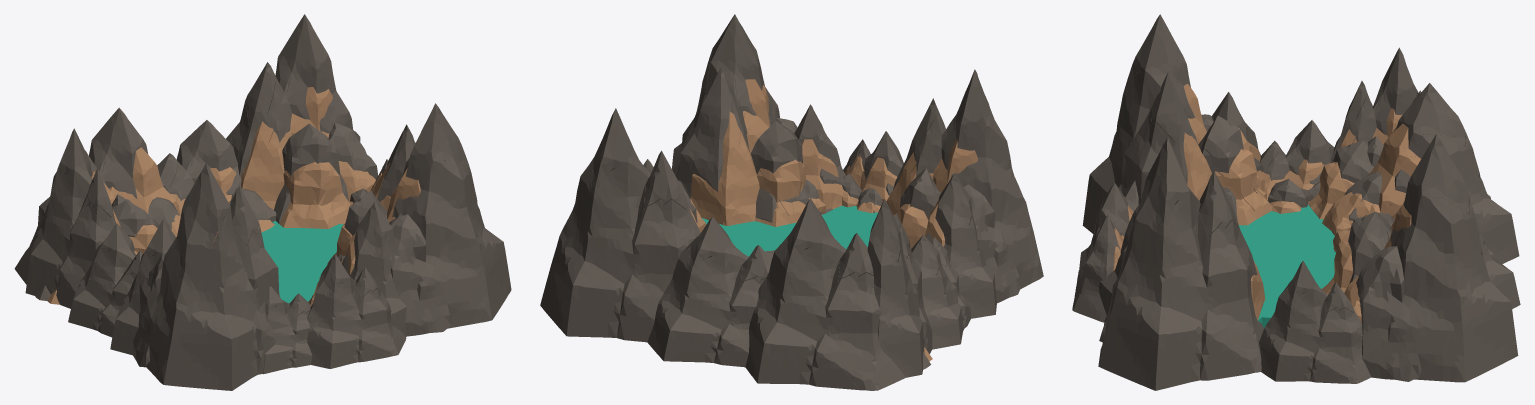
File: asset.glb
3 views of the same model, side by side, from view 1: azimuth 30°, elevation 25°; view 2: azimuth 150°, elevation 25°; view 3: azimuth 270°, elevation 25° (orthographic). The views are drawn at different scales.
Visible parts, largest first — view 1: obj_19, obj_35, obj_2, obj_9, obj_4, obj_14, obj_1, obj_7, obj_5, obj_0, obj_29, obj_13 (+4 smaller); view 2: obj_2, obj_1, obj_19, obj_0, obj_35, obj_36, obj_9, obj_21, obj_7, obj_5, obj_20, obj_14 (+3 smaller); view 3: obj_35, obj_2, obj_19, obj_31, obj_1, obj_5, obj_6, obj_20, obj_14, obj_9, obj_7, obj_4 (+7 smaller).
Part boxes in pixels (x1,y1,x2,y2): obj_19: (133,162,280,390); obj_35: (337,103,511,336); obj_2: (226,14,378,223); obj_9: (25,128,131,308); obj_4: (241,87,375,228); obj_14: (307,254,406,368); obj_1: (14,107,180,300); obj_7: (68,223,142,337); obj_5: (261,220,343,303); obj_0: (157,120,276,221); obj_29: (340,202,406,336); obj_13: (263,286,312,374); obj_2: (540,108,700,342); obj_1: (745,198,930,390); obj_19: (893,69,1043,303); obj_0: (647,217,774,367); obj_35: (672,14,809,222); obj_36: (690,79,805,226); obj_9: (867,198,932,377); obj_21: (926,174,996,318); obj_7: (911,235,970,349); obj_5: (702,205,878,256); obj_20: (886,139,977,248); obj_14: (842,131,903,212); obj_35: (1098,137,1263,390); obj_2: (1348,133,1518,382); obj_19: (1082,14,1243,233); obj_31: (1259,261,1371,383); obj_1: (1333,83,1519,263); obj_5: (1239,204,1335,328); obj_6: (1308,123,1420,235); obj_20: (1183,83,1272,225); obj_14: (1072,182,1129,322); obj_9: (1330,47,1418,166); obj_7: (1259,120,1334,207); obj_4: (1321,202,1411,379).
Size of the model in its own units: 196 by 102 by 191.
